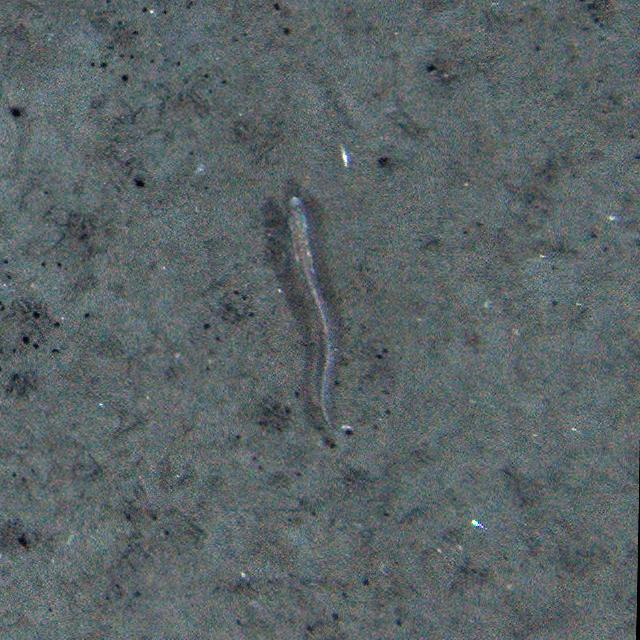roundfish: (280, 191, 339, 431)
